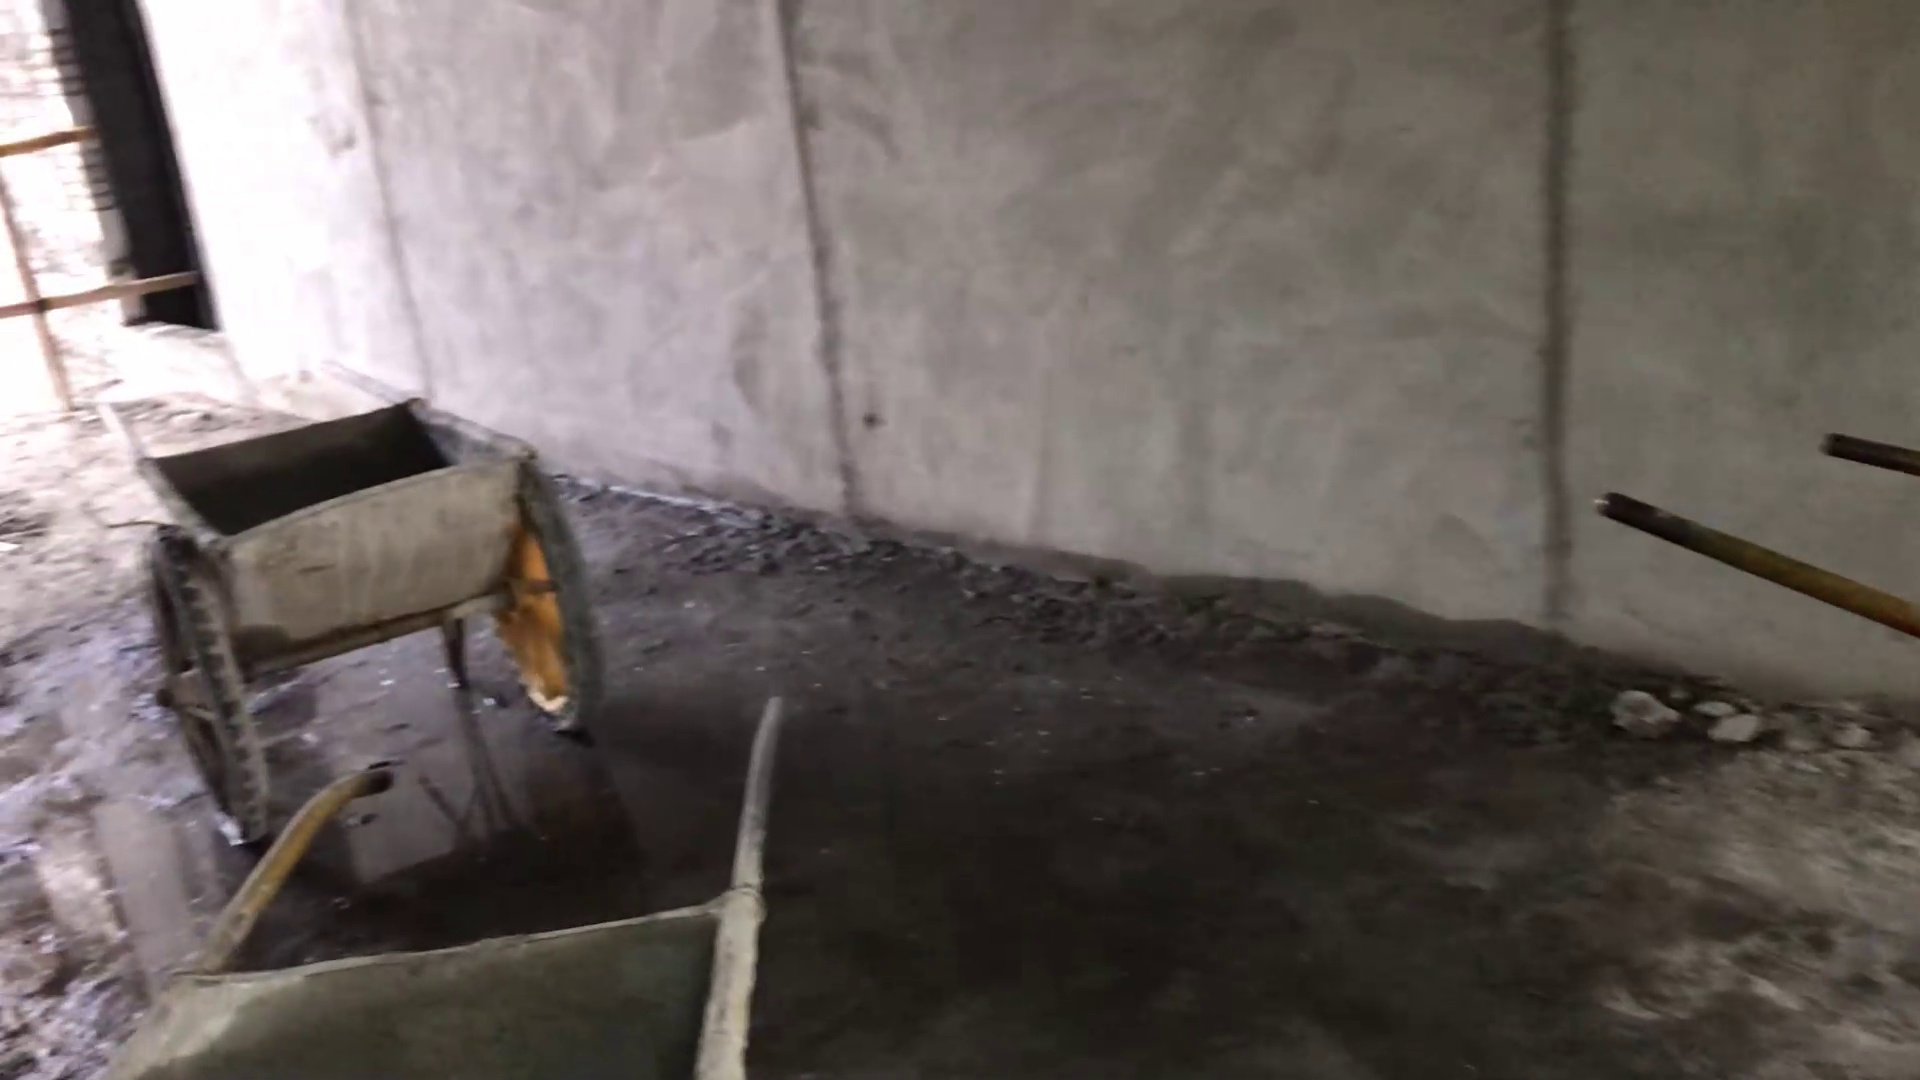handcart: (157, 682, 822, 1080), (63, 371, 632, 787)
